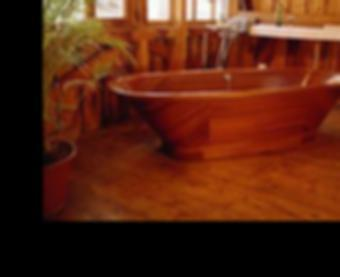Matera: (43, 0, 126, 220)
